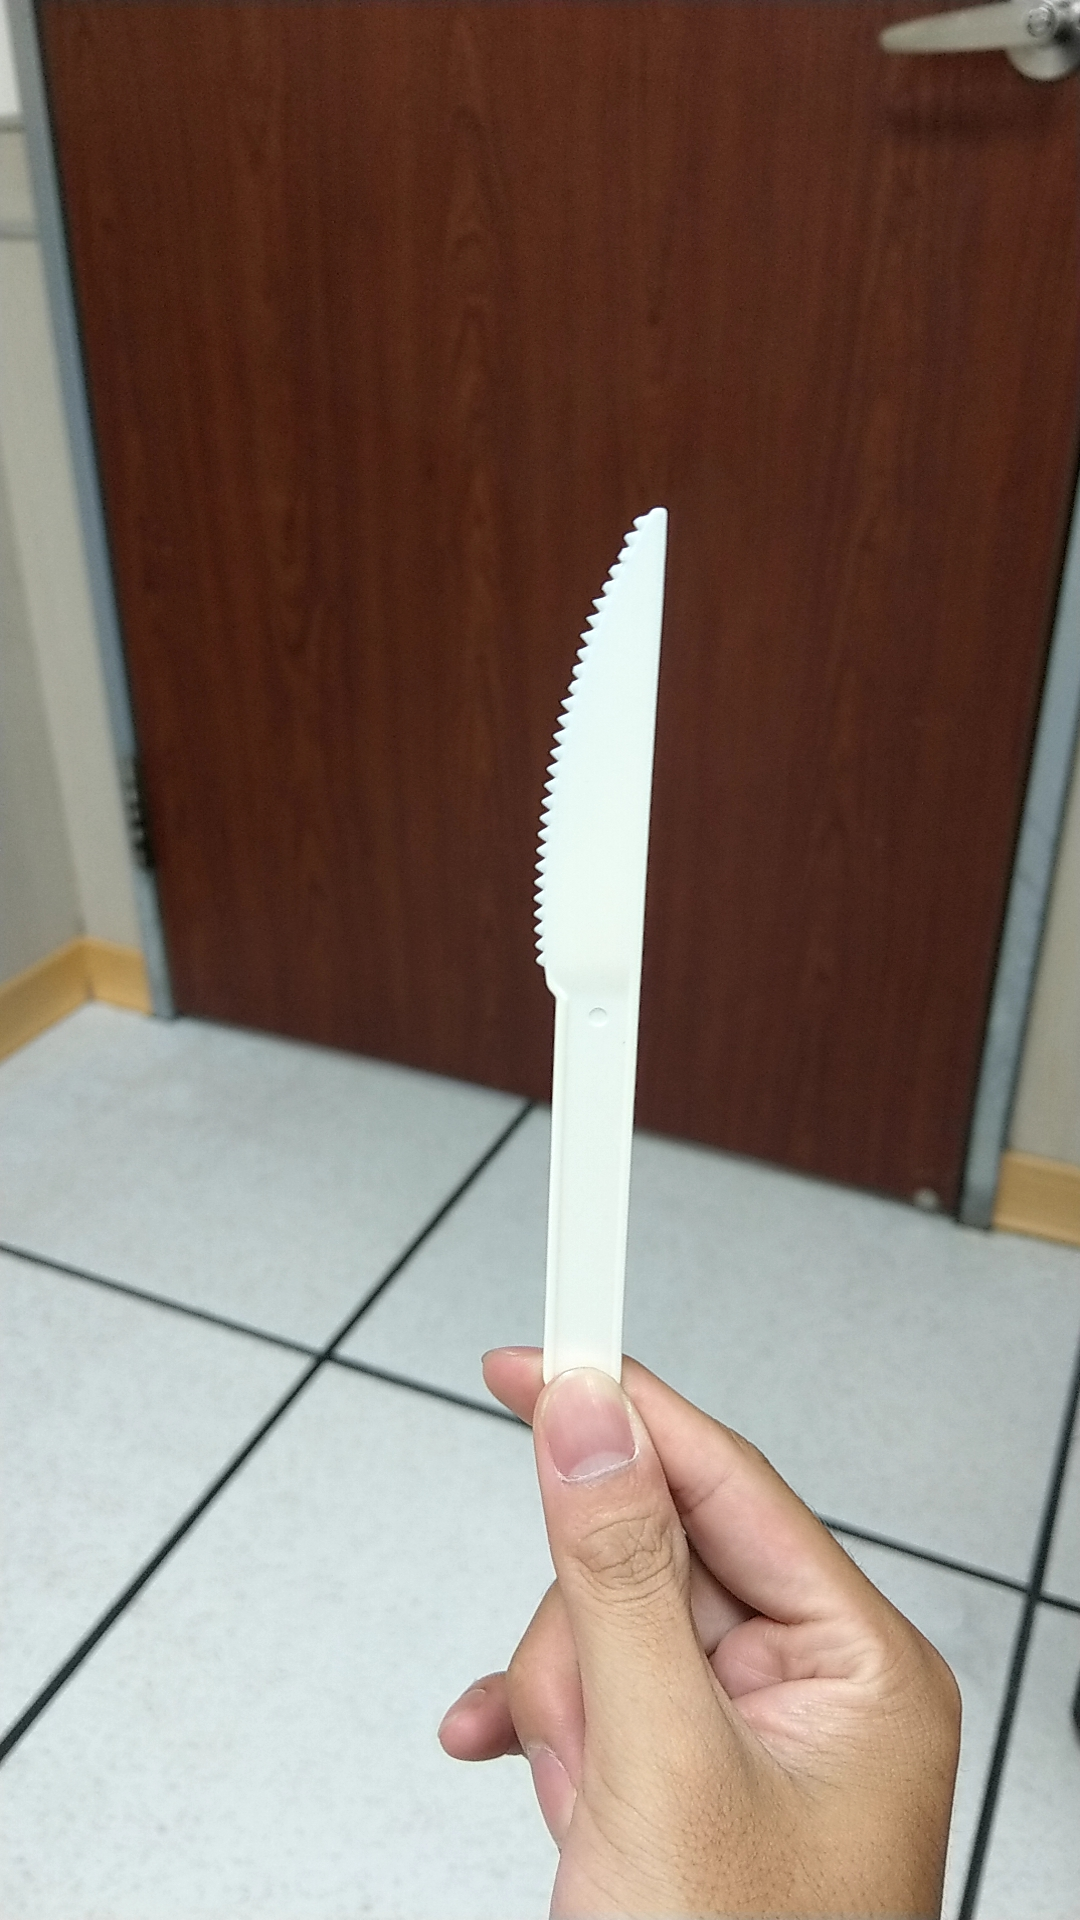knife: (505, 475, 687, 1342)
